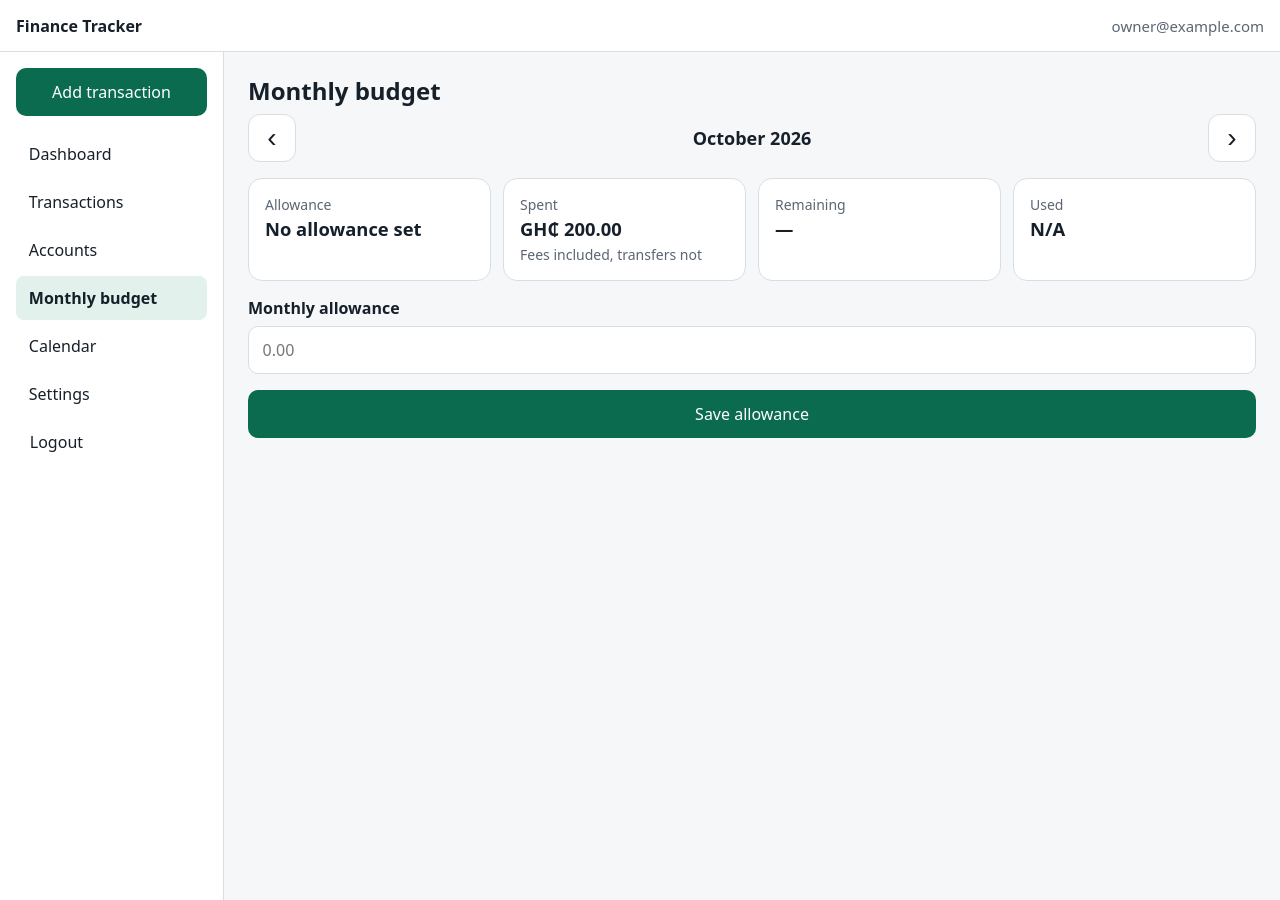
Test case: allowance form › saves the allowance and shows the new figures only after the server confirms
Expected: the text "No allowance set" is shown, left=265, top=216, right=422, bottom=241
Type "3000" into the field labelled "Monthly allowance" at (752, 350), box left=248, top=326, right=1256, bottom=374
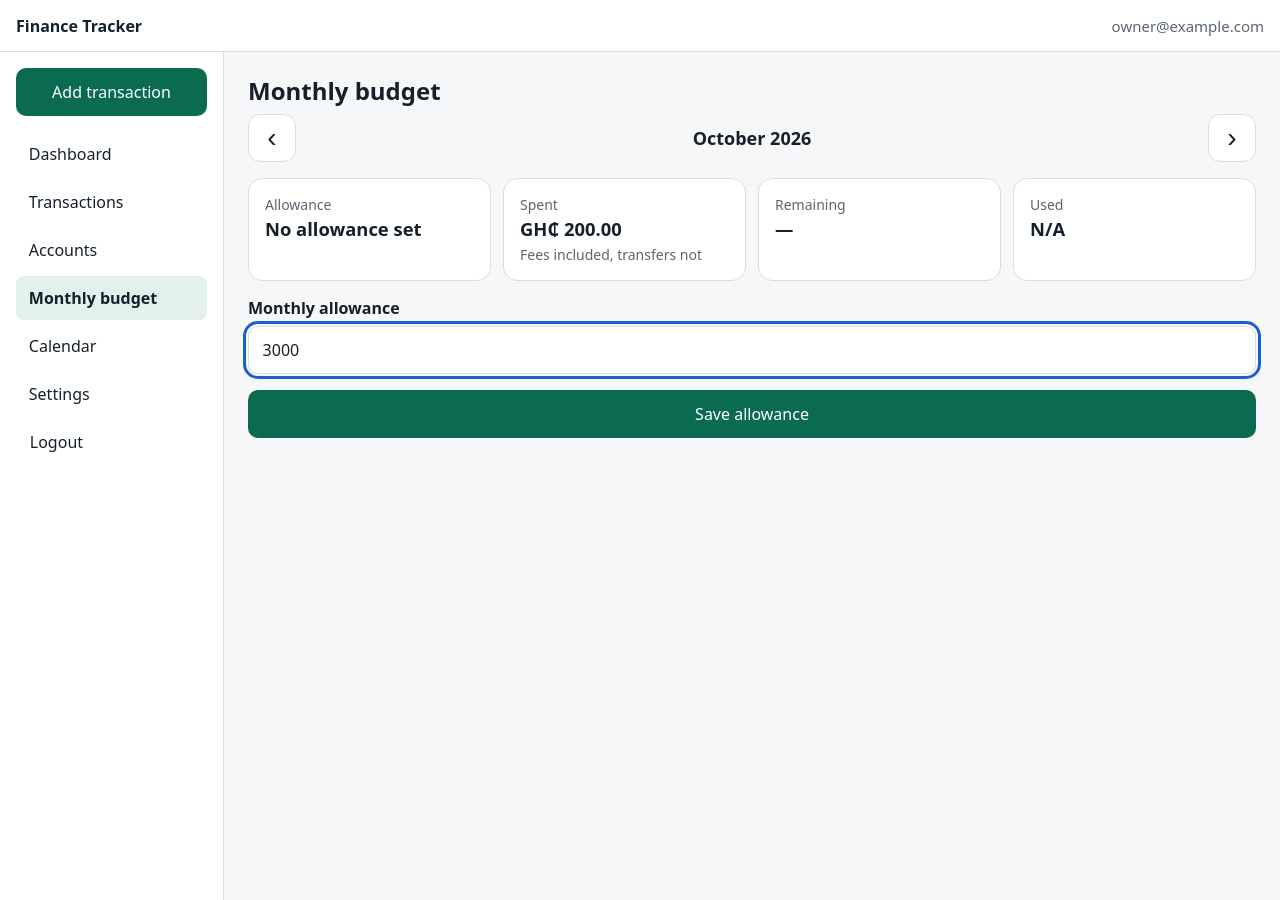
Click the button "Save allowance" at (752, 414), box left=248, top=390, right=1256, bottom=438
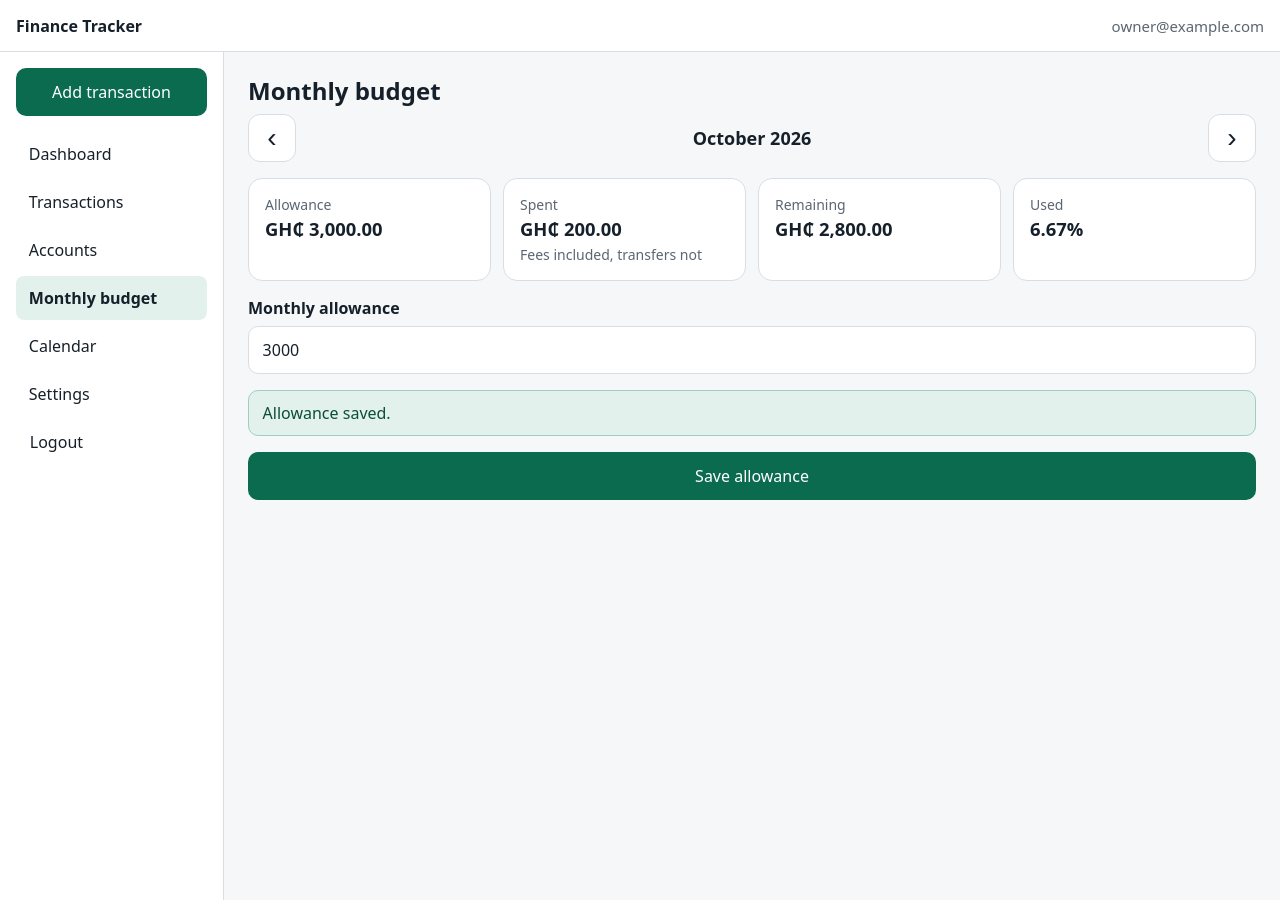
Now the text "GH₵ 2,800.00" is shown, box left=775, top=216, right=892, bottom=241
Now the message "Allowance saved" is shown, box left=248, top=390, right=1256, bottom=436
